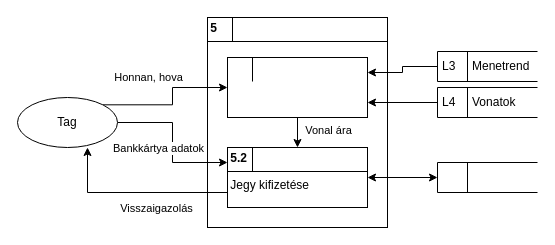
Some shapes in this 555 by 245 pixel diagram are drawn without their labels. The centre of each missing label's shape, as x and y in pixels:
"5.1 Vonalszám kiválasztása" goes at pixel 297 87.
"L5 Jegyek" goes at pixel 487 177.
